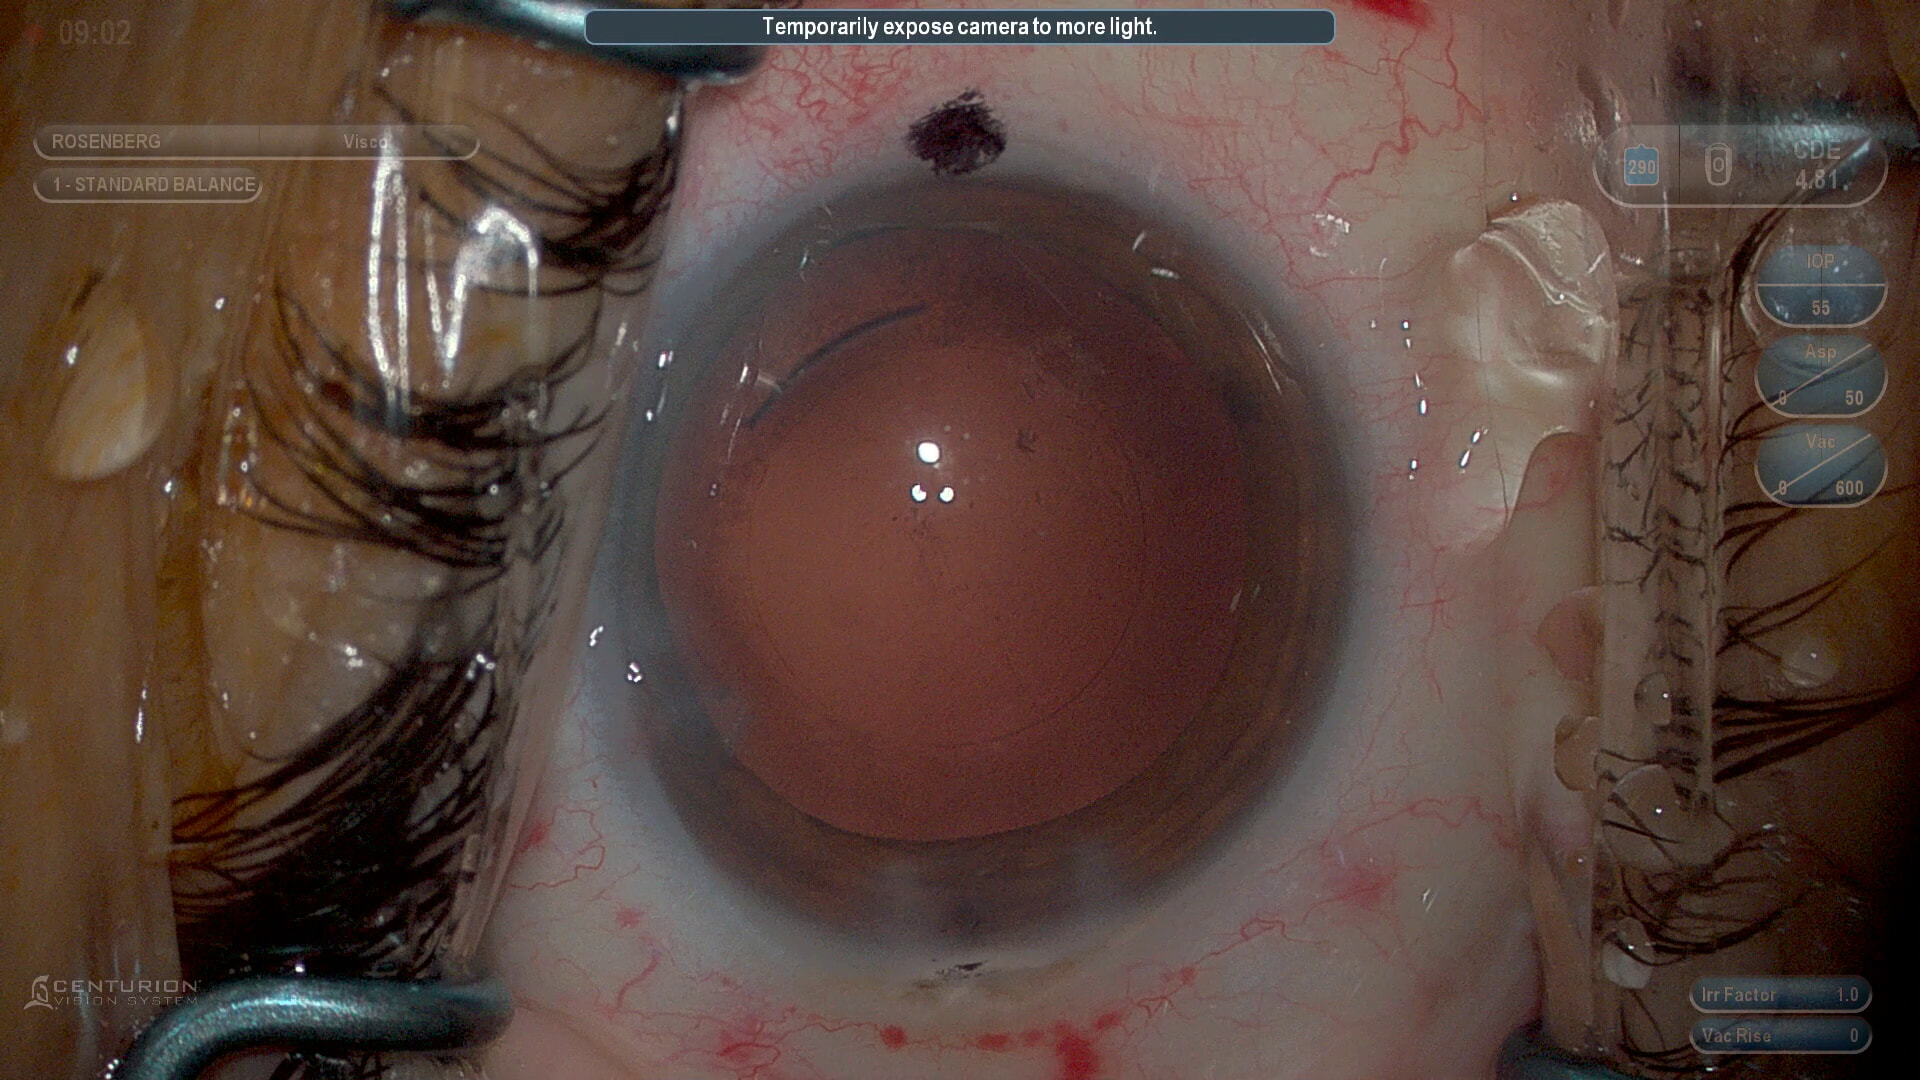iris: (623, 190, 1349, 950)
pupil: (659, 241, 1264, 844)
